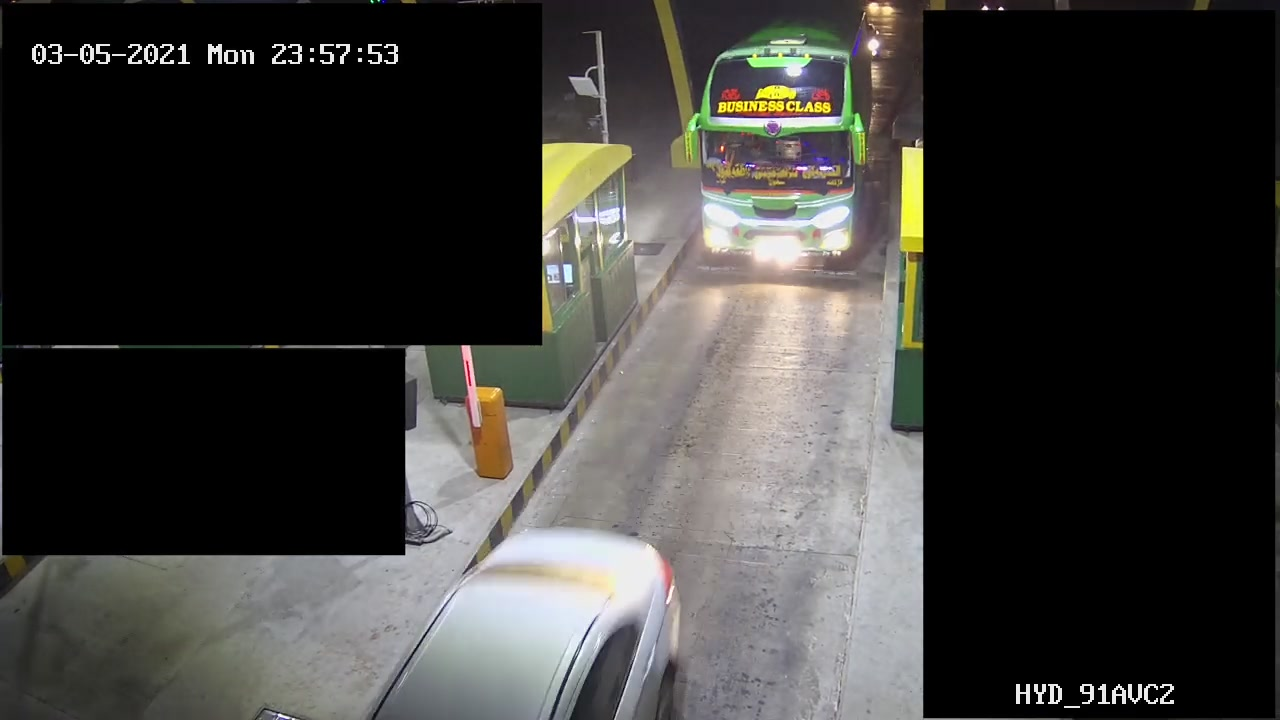F4: (694, 11, 875, 267)
